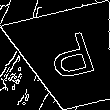P_S: (41, 29, 101, 88)
